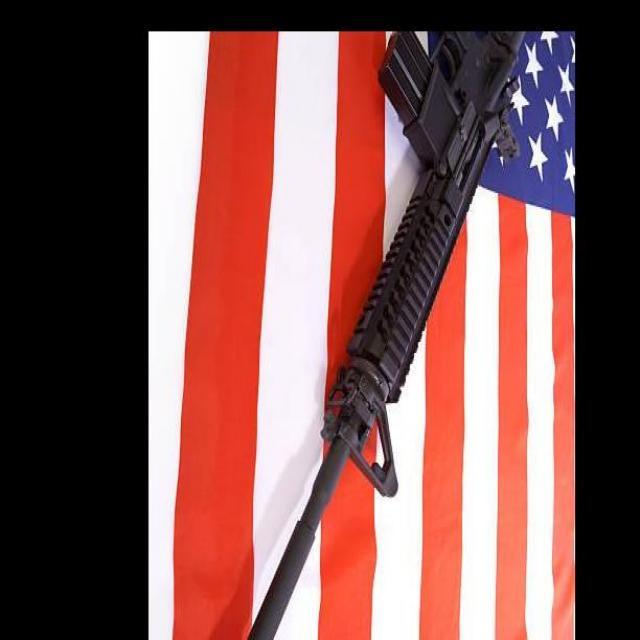weapon: (247, 31, 527, 640)
